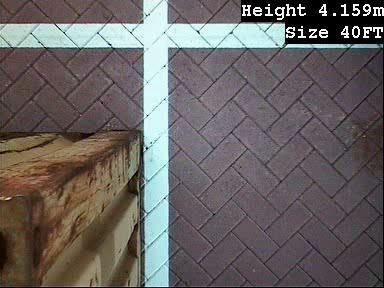groundmarker_2: (195, 209, 227, 260)
